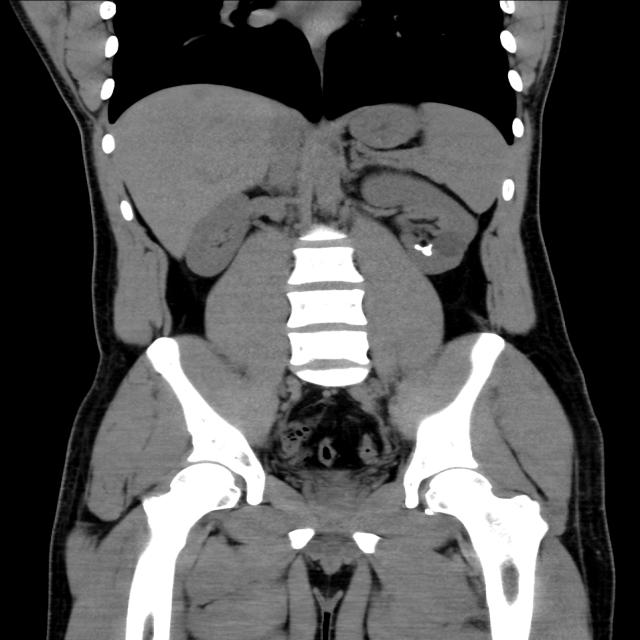kidneystone: (414, 242, 434, 256)
